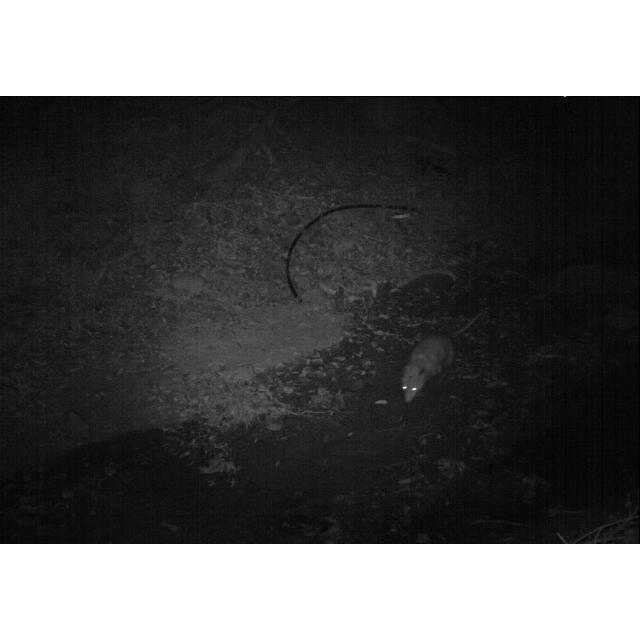animals: (398, 302, 488, 406)
